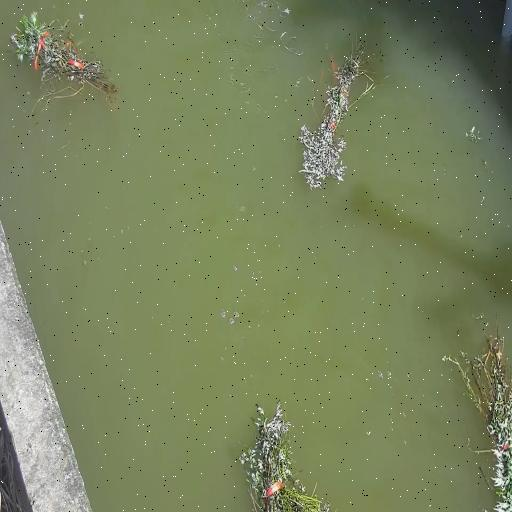twig: (444, 311, 512, 511), (299, 36, 385, 189), (10, 10, 120, 114), (238, 396, 332, 512)
